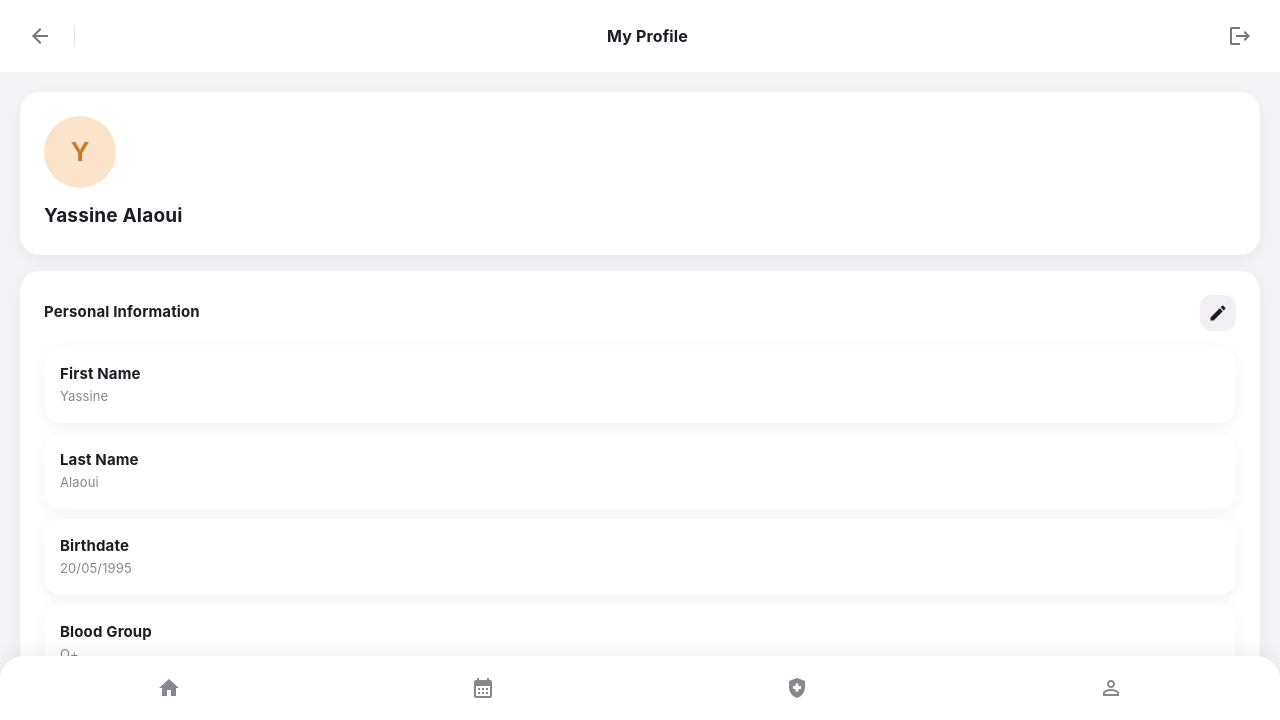
Scenario: ProfileComponent - save profile (issue #204) › BUG regression: no longer sends { userId: "me", data } through the admin-only endpoint
This screenshot has width=1280, height=720.
Check: the text "Yassine" is shown, box [60,388,108,404]
Click the button with test id "EditIcon" at (1218, 312), box [1200,294,1236,330]
(page scrolled)
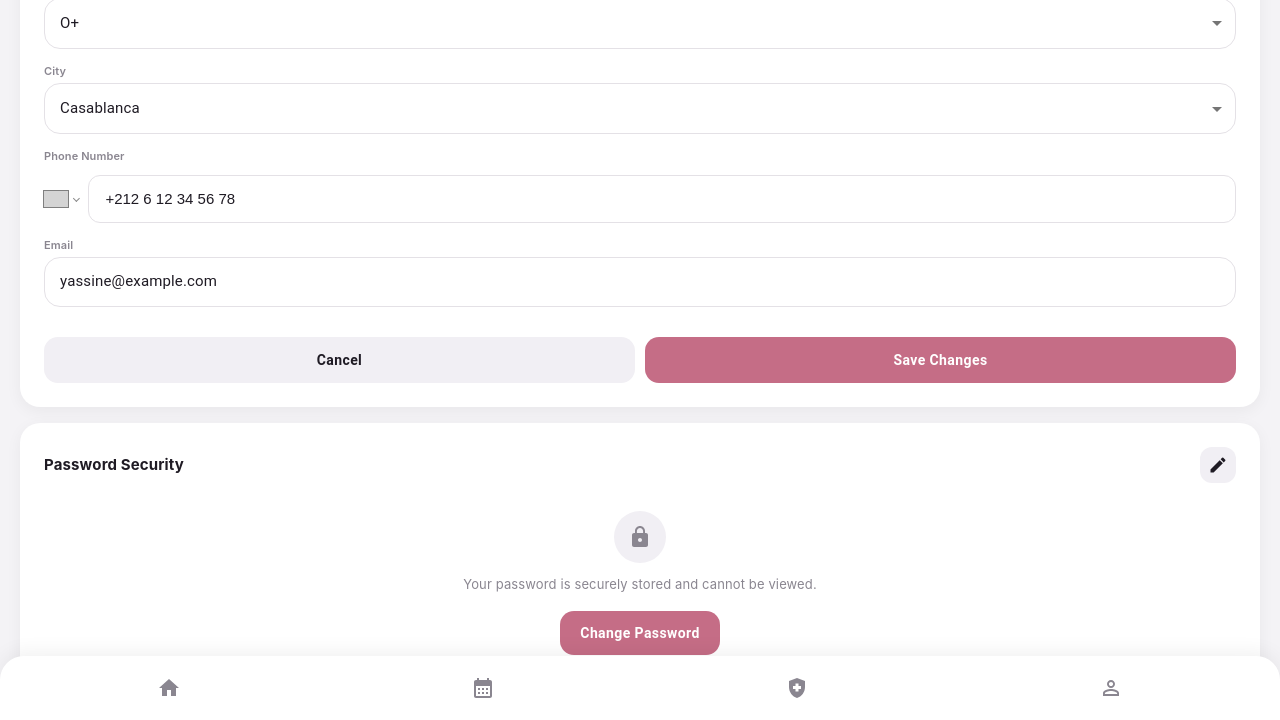
Click the button "Save Changes" at (940, 360), box [645,337,1236,383]
(page scrolled)
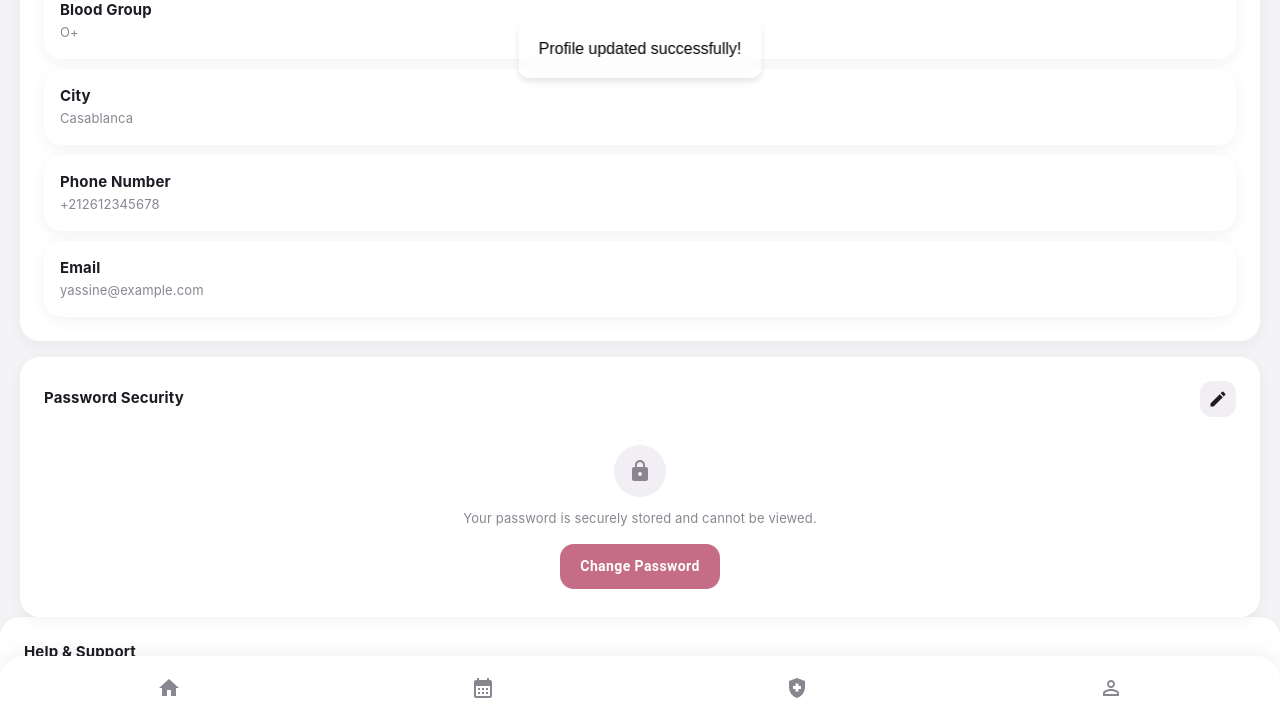
Check: the text "yassine@example.com" is shown, box [60,282,204,298]
